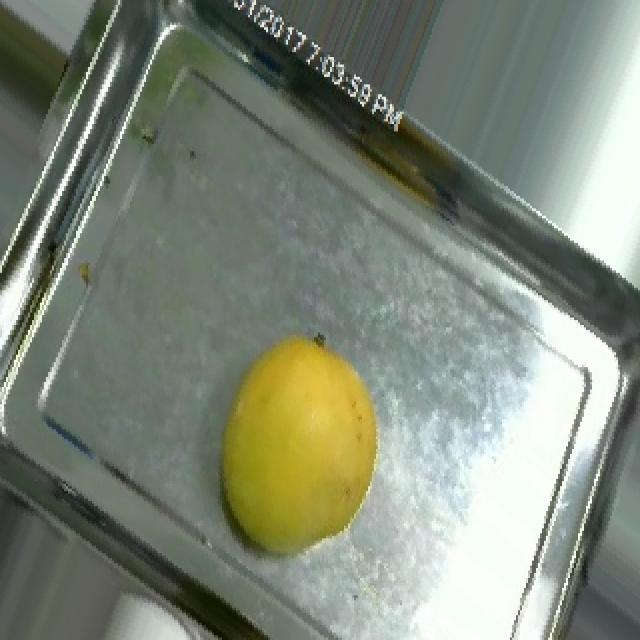fruit: (158, 293, 434, 595)
